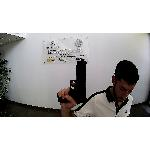Pistol: (54, 49, 94, 108)
